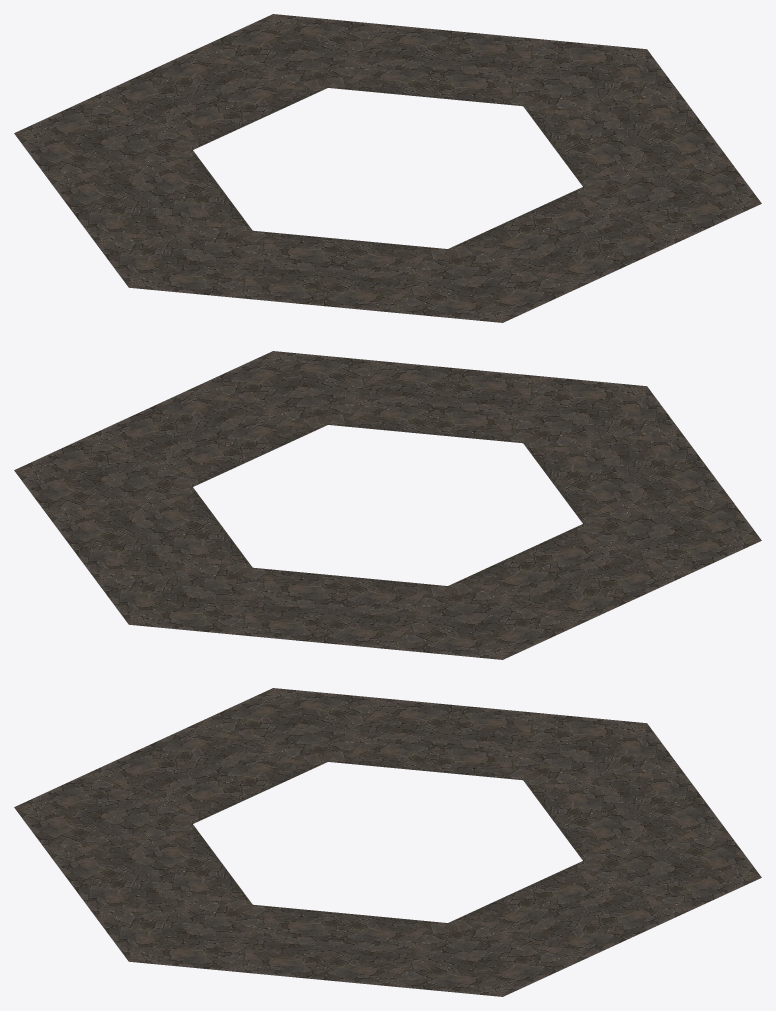
File: volcano_02_floor_03.FBX
3 renders of one model, top to bottom at view 1: azimuth 30°, elevation 25°; view 2: azimuth 150°, elevation 25°; view 3: azimuth 270°, elevation 25°, orthographic.
Visible parts, largest first — view 1: volcano_02_floor_03; view 2: volcano_02_floor_03; view 3: volcano_02_floor_03.
Boxes of the visible parts, <box> form: volcano_02_floor_03: <box>14,14,761,322</box>; volcano_02_floor_03: <box>14,351,761,659</box>; volcano_02_floor_03: <box>14,688,761,996</box>.
Size of the model in its own units: 34.43 by 0 by 35.23.
1 material, 1 textured.
